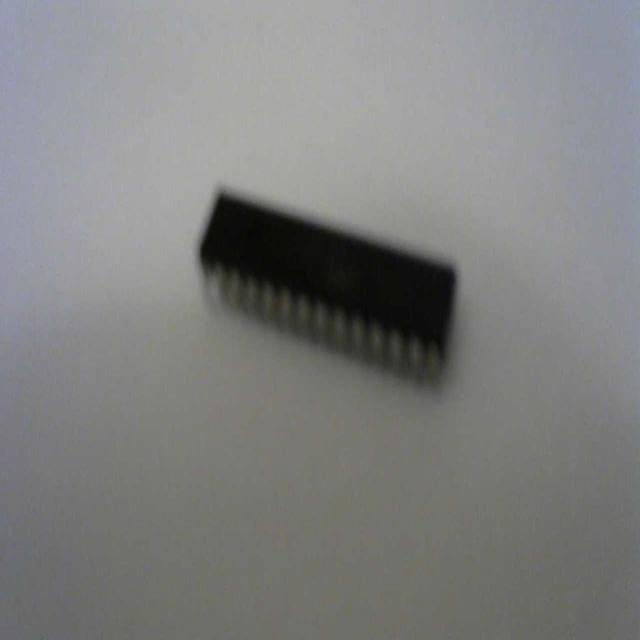atmega: (196, 182, 460, 390)
